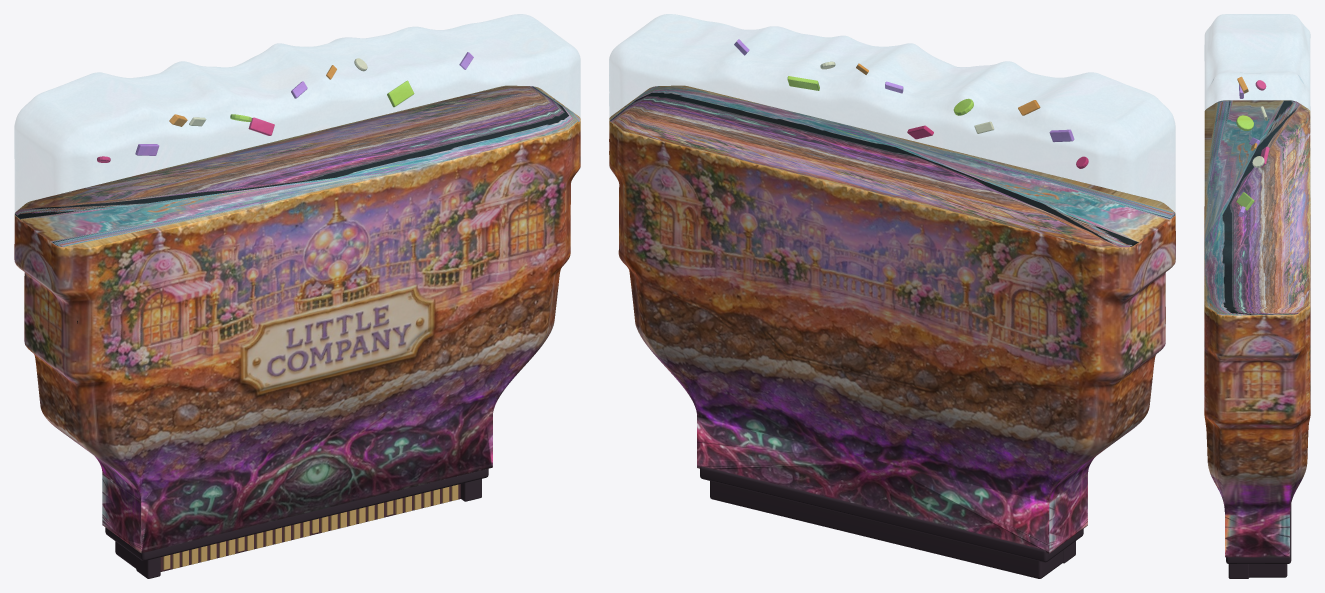
The model's file is little-company.glb.
3 views of the same model, side by side, from view 1: azimuth 30°, elevation 25°; view 2: azimuth 150°, elevation 25°; view 3: azimuth 270°, elevation 25° (orthographic). The views are drawn at different scales.
Visible parts, largest first — view 1: little-company · reconstructed shell, Trashland · solid cast water cap, 32 plated front contacts, Keyed seat shoulder, Recessed contact board; view 2: little-company · reconstructed shell, Trashland · solid cast water cap, Insulated connector back, Keyed seat shoulder; view 3: little-company · reconstructed shell, Trashland · solid cast water cap, Keyed seat shoulder, Insulated connector back, Guide rail.001, Trashland scrap 5, Trashland scrap 10.
Part boxes in pixels (left/top/right/bottom): little-company · reconstructed shell: left=14, top=85, right=580, bottom=553; Trashland · solid cast water cap: left=14, top=14, right=580, bottom=247; 32 plated front contacts: left=163, top=484, right=458, bottom=569; Keyed seat shoulder: left=105, top=468, right=488, bottom=560; Recessed contact board: left=160, top=484, right=460, bottom=571; little-company · reconstructed shell: left=609, top=85, right=1175, bottom=553; Trashland · solid cast water cap: left=609, top=14, right=1175, bottom=247; Insulated connector back: left=710, top=481, right=1063, bottom=578; Keyed seat shoulder: left=700, top=466, right=1083, bottom=562; little-company · reconstructed shell: left=1204, top=100, right=1310, bottom=557; Trashland · solid cast water cap: left=1204, top=14, right=1310, bottom=315; Keyed seat shoulder: left=1226, top=504, right=1291, bottom=563; Insulated connector back: left=1249, top=564, right=1287, bottom=577; Guide rail.001: left=1228, top=564, right=1249, bottom=578; Trashland scrap 5: left=1236, top=115, right=1253, bottom=130; Trashland scrap 10: left=1236, top=192, right=1254, bottom=210.
Size of the model in its own units: 0.469 by 0.41 by 0.098.
10 materials, 2 textured.
